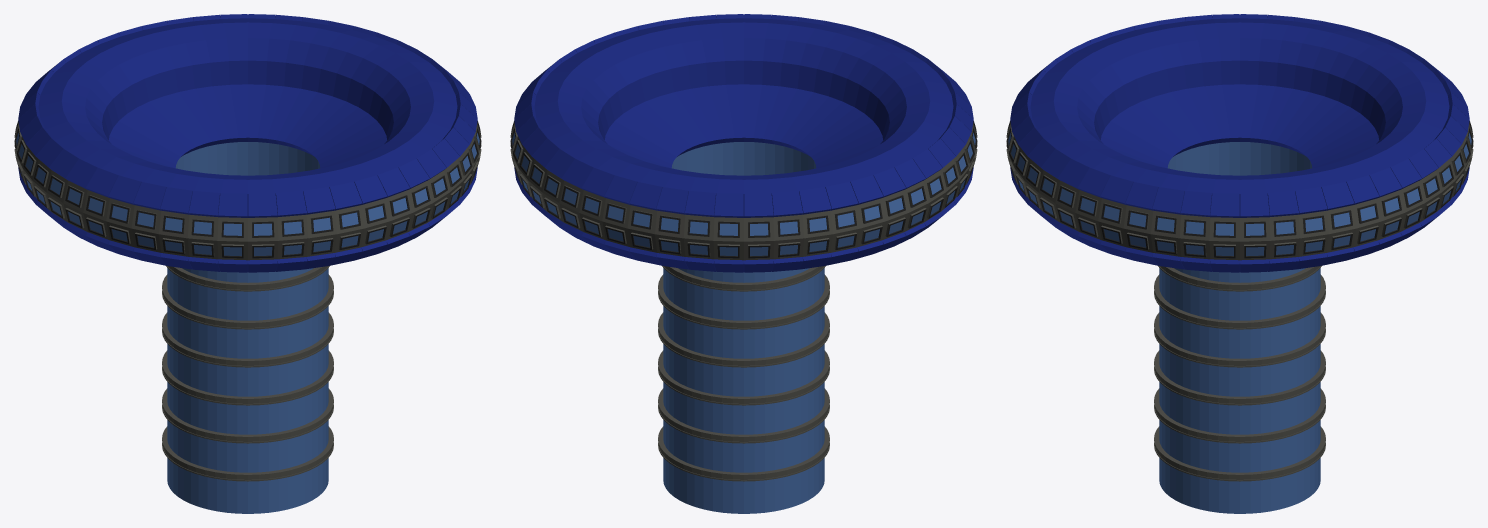
The model's file is building3.fbx.
3 renders of one model, left to right at view 1: azimuth 30°, elevation 25°; view 2: azimuth 150°, elevation 25°; view 3: azimuth 270°, elevation 25°, orthographic.
Parts seen in each view (by area): view 1: Cube; view 2: Cube; view 3: Cube.
Boxes of the visible parts, left/top/right/bottom form: Cube: left=14, top=14, right=481, bottom=513; Cube: left=510, top=14, right=977, bottom=513; Cube: left=1006, top=14, right=1473, bottom=513.
Bounding box in the file's own units: 251 × 224 × 251.
